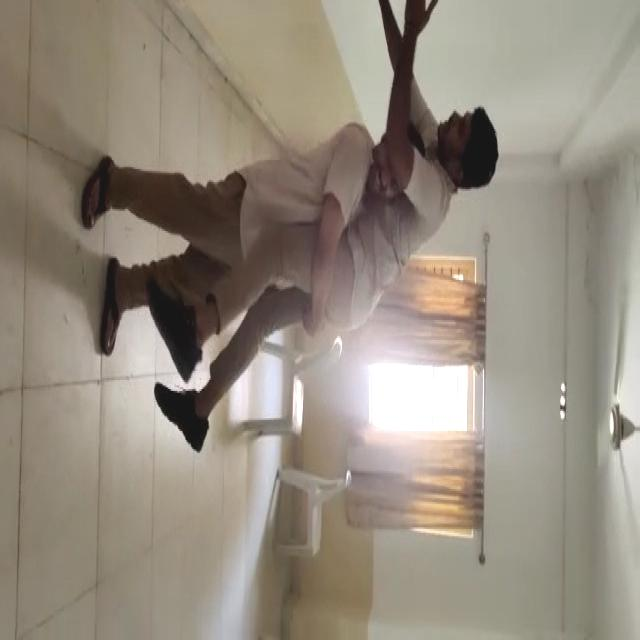fight: (66, 25, 525, 471)
